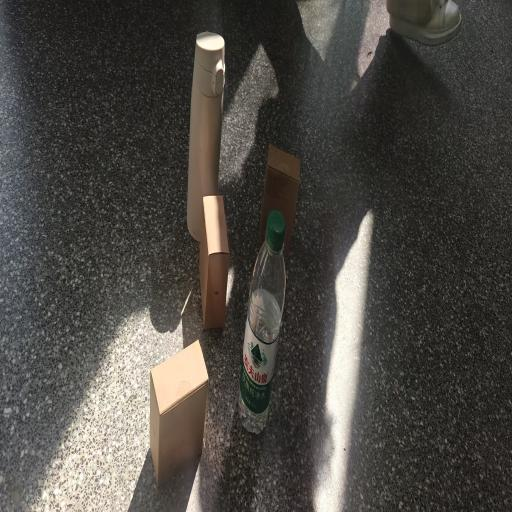bottle: (239, 210, 286, 433), (186, 32, 225, 241)
box: (150, 340, 209, 486), (259, 145, 300, 257), (199, 195, 229, 329)
